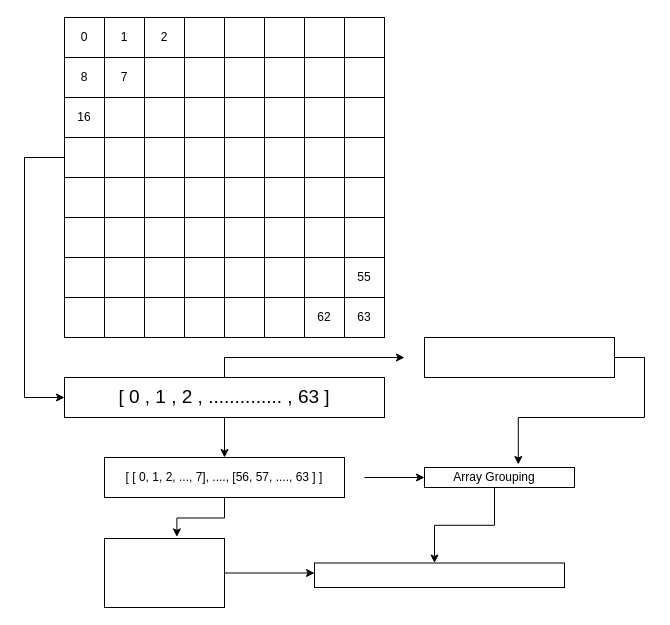
Some shapes in this 670 by 625 pixel diagram are drawn without their labels. The centre of each missing label's shape, as x and y in pixels:
"hashTable = { row1: [0,1,2,..,8] row8:[56,57,....63] }" belongs at point 164,573.
"Left to Right array indexing" belongs at point 519,357.
"Storing the grouped arrays in Hash Table" belongs at point 439,575.
